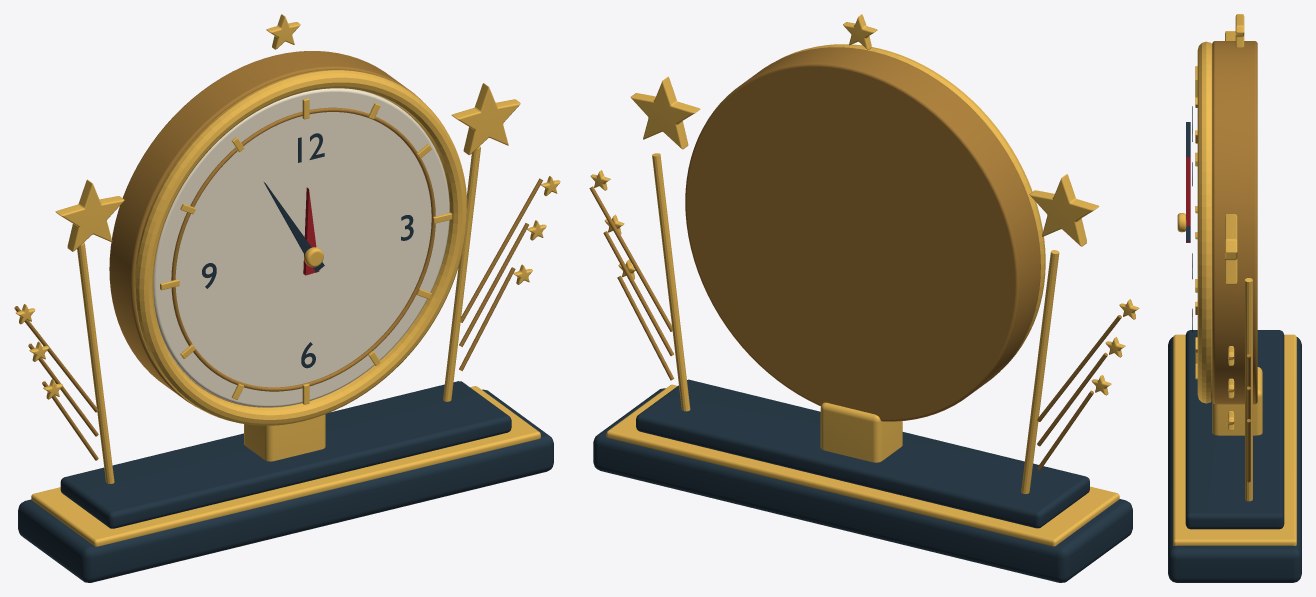
File: new-year-countdown-clock.glb
3 renders of one model, left to right at view 1: azimuth 30°, elevation 25°; view 2: azimuth 150°, elevation 25°; view 3: azimuth 270°, elevation 25°, orthographic. The views are drawn at different scales.
Visible parts, largest first — view 1: Export batch Warm ivory clock face, Export batch Midnight enamel, Export batch Polished gold, Export batch Antique gold; view 2: Export batch Antique gold, Export batch Midnight enamel, Export batch Polished gold; view 3: Export batch Midnight enamel, Export batch Polished gold, Export batch Antique gold, Export batch Festive ruby.
Boxes of the visible parts, bbox=[...] form: Export batch Warm ivory clock face: bbox=[153, 88, 449, 407]; Export batch Midnight enamel: bbox=[18, 133, 553, 582]; Export batch Polished gold: bbox=[16, 14, 560, 546]; Export batch Antique gold: bbox=[14, 51, 542, 460]; Export batch Antique gold: bbox=[589, 47, 1121, 470]; Export batch Midnight enamel: bbox=[593, 379, 1132, 582]; Export batch Polished gold: bbox=[590, 14, 1139, 546]; Export batch Midnight enamel: bbox=[1168, 106, 1301, 582]; Export batch Polished gold: bbox=[1173, 14, 1296, 545]; Export batch Antique gold: bbox=[1212, 41, 1257, 482]; Export batch Festive ruby: bbox=[1186, 157, 1190, 242].
Bounding box in the file's own units: 2.36 × 2.02 × 0.53.
